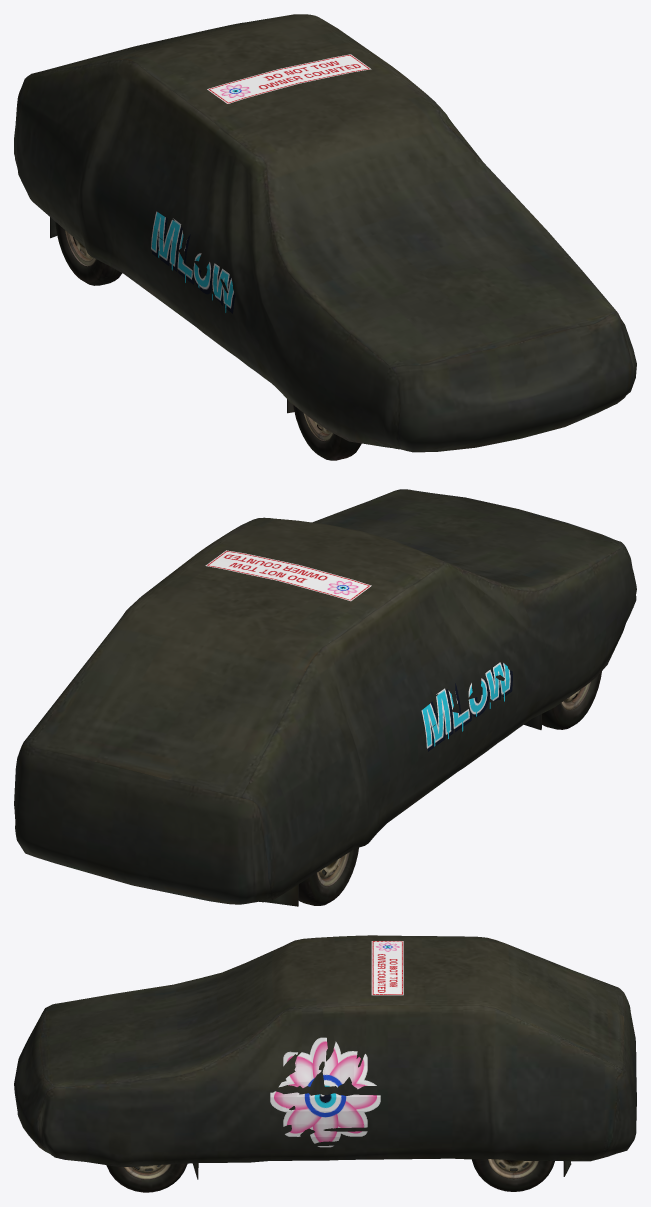
File: nyb_legend_tarpcar.glb
3 views of the same model, one above another, from view 1: azimuth 30°, elevation 25°; view 2: azimuth 150°, elevation 25°; view 3: azimuth 270°, elevation 25° (orthographic). The views are drawn at different scales.
Visible parts, largest first — view 1: covered_car_wheel_01, stk_lbl_dfc06e45dd.png, stk_tag_mlow_cyan.png; view 2: covered_car_wheel_01, stk_lbl_dfc06e45dd.png, stk_tag_mlow_cyan.png; view 3: covered_car_wheel_01, stk_eyeflower_die.png, stk_lbl_dfc06e45dd.png.
Boxes of the visible parts, x1,y1,x2,y2 form: covered_car_wheel_01: (14, 14, 636, 460); stk_lbl_dfc06e45dd.png: (207, 54, 371, 103); stk_tag_mlow_cyan.png: (151, 211, 235, 313); covered_car_wheel_01: (14, 489, 636, 906); stk_lbl_dfc06e45dd.png: (205, 550, 371, 601); stk_tag_mlow_cyan.png: (421, 662, 512, 751); covered_car_wheel_01: (14, 935, 636, 1192); stk_eyeflower_die.png: (270, 1037, 380, 1147); stk_lbl_dfc06e45dd.png: (371, 941, 403, 995).
Bounding box in the file's own units: 1.79 × 1.41 × 4.38.
Materials: 5 (5 with a texture image).
